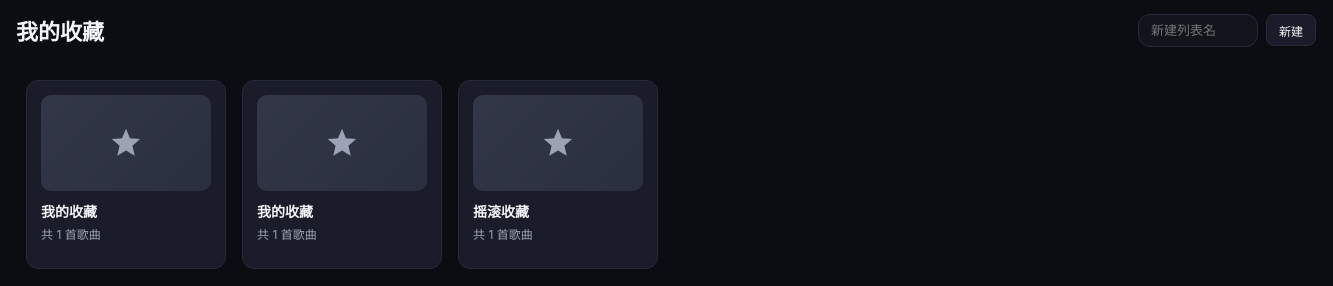
Test case: FavoritesPage 收藏网格视图 › 点击收藏夹卡片进入列表视图并显示歌曲
Click the text "摇滚收藏" at (558,174), box x1=458 y1=80 x2=658 y2=269
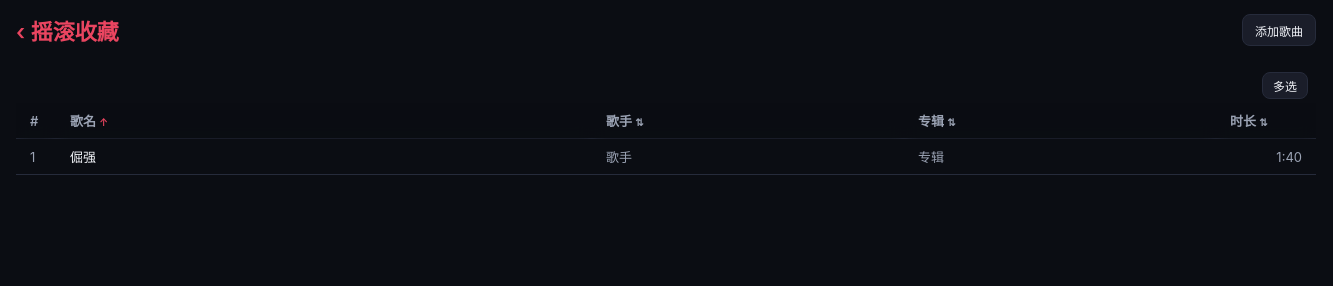
Check: the text "‹ 摇滚收藏" is shown, box x1=16 y1=14 x2=119 y2=46
Check: the text "倔强" is shown, box x1=56 y1=138 x2=592 y2=174
